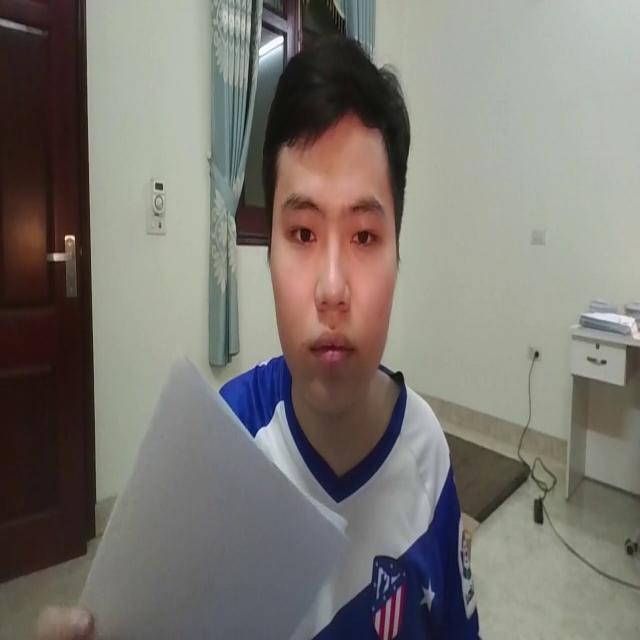book: (58, 322, 348, 640)
student: (189, 37, 485, 640)
